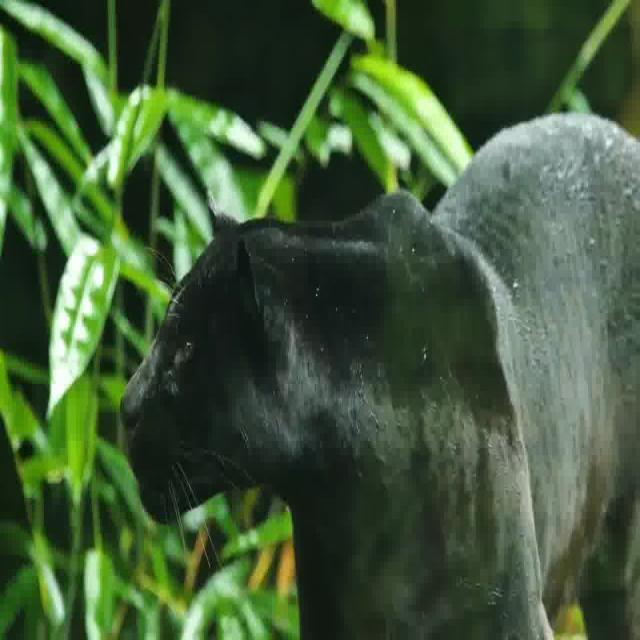Jaguar: (46, 176, 640, 640)
